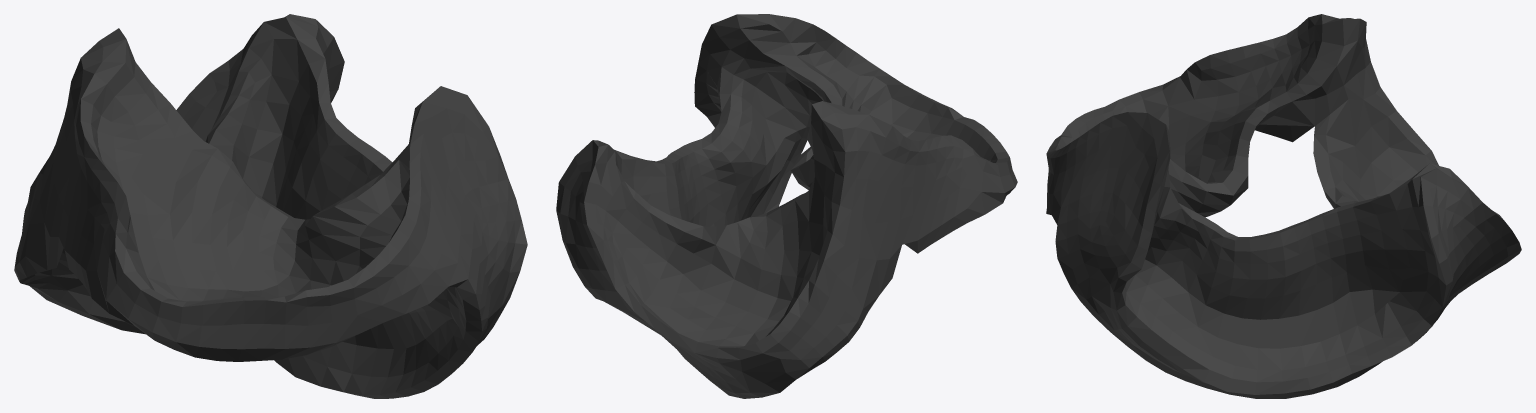
File: L_sided_AORTIC.glb
The picture shows the model from 3 angles, left to right: view 1: azimuth 30°, elevation 25°; view 2: azimuth 150°, elevation 25°; view 3: azimuth 270°, elevation 25°; orthographic projection. The views are drawn at different scales.
Visible parts, largest first — view 1: L_sided_AORTIC; view 2: L_sided_AORTIC; view 3: L_sided_AORTIC.
Boxes of the visible parts, x1,y1,x2,y2 form: L_sided_AORTIC: (14, 14, 527, 398); L_sided_AORTIC: (556, 14, 1017, 398); L_sided_AORTIC: (1046, 14, 1521, 398).
Size of the model in its own units: 2.27 by 2.01 by 2.79.
Materials: 1 (1 with a texture image).
